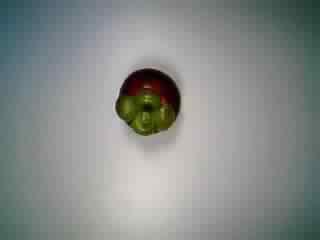mangosteen: (113, 63, 186, 140)
